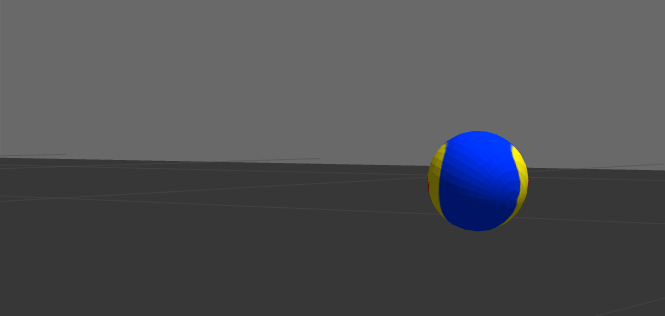toy story ball: (427, 132, 529, 232)
